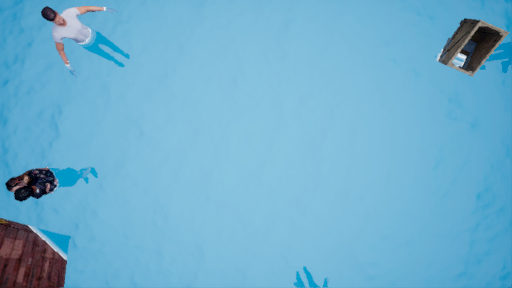person: (43, 4, 134, 82), (5, 158, 108, 214)
